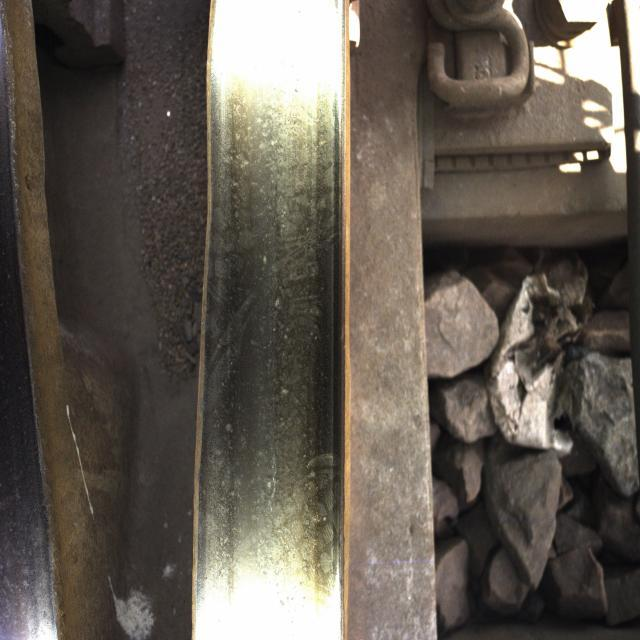normal: (214, 77, 338, 584)
